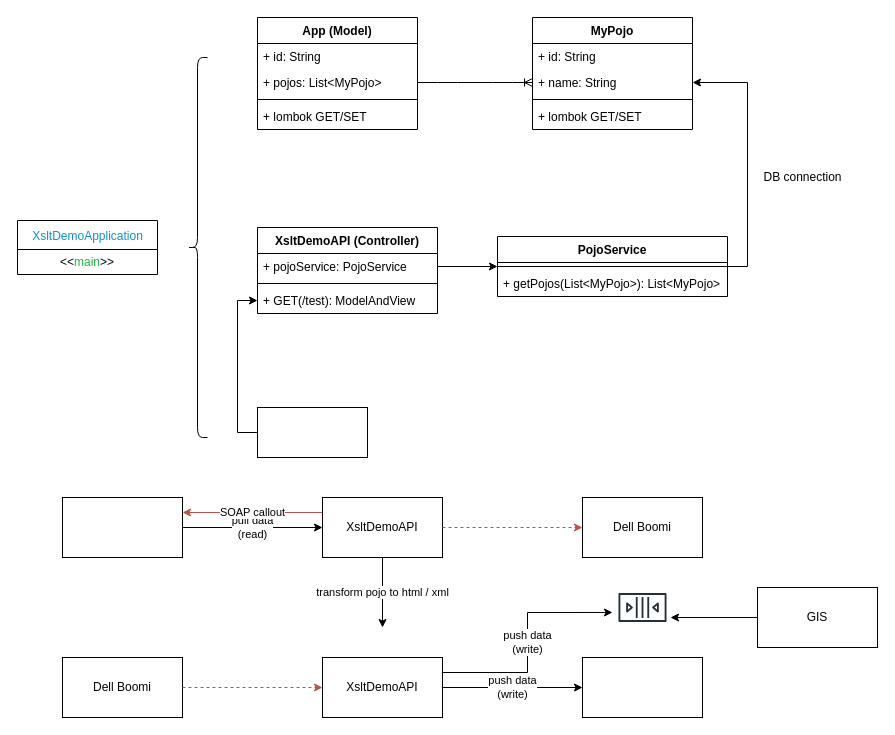
Some shapes in this 895 by 735 pixel diagram are drawn without their labels. Each missing label, with the centre of its shape:
"ADMS" belongs at pixel 122 527.
"GIS queue" belongs at pixel 642 607.
"OOP" belongs at pixel 642 687.
"pojo-process.xslt" belongs at pixel 312 432.
